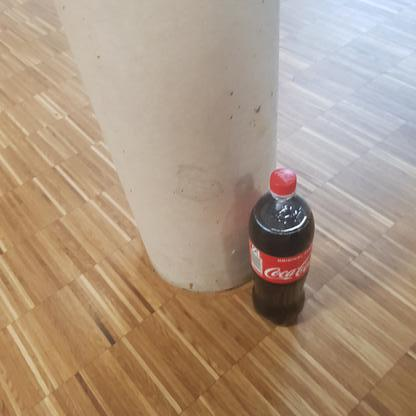coca-cola: (244, 165, 316, 326)
